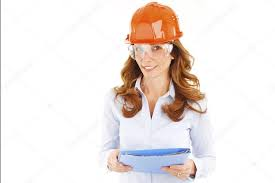Person_wearing_helmet: (122, 0, 186, 61)
